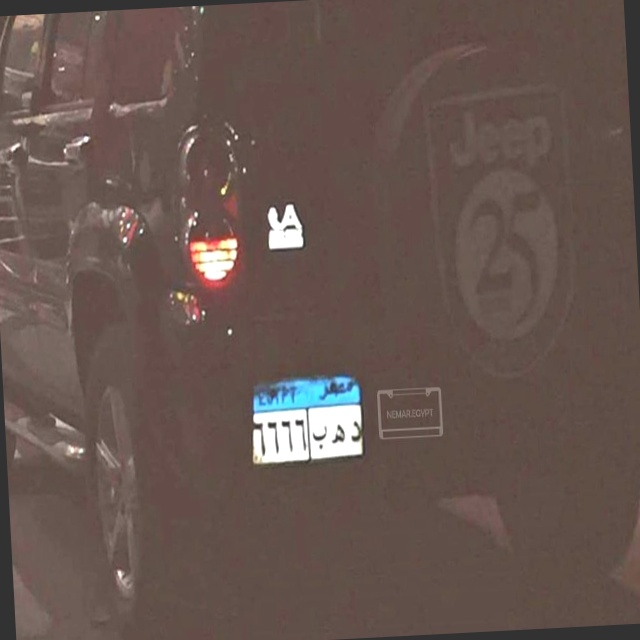License Plate: (245, 370, 369, 472)
